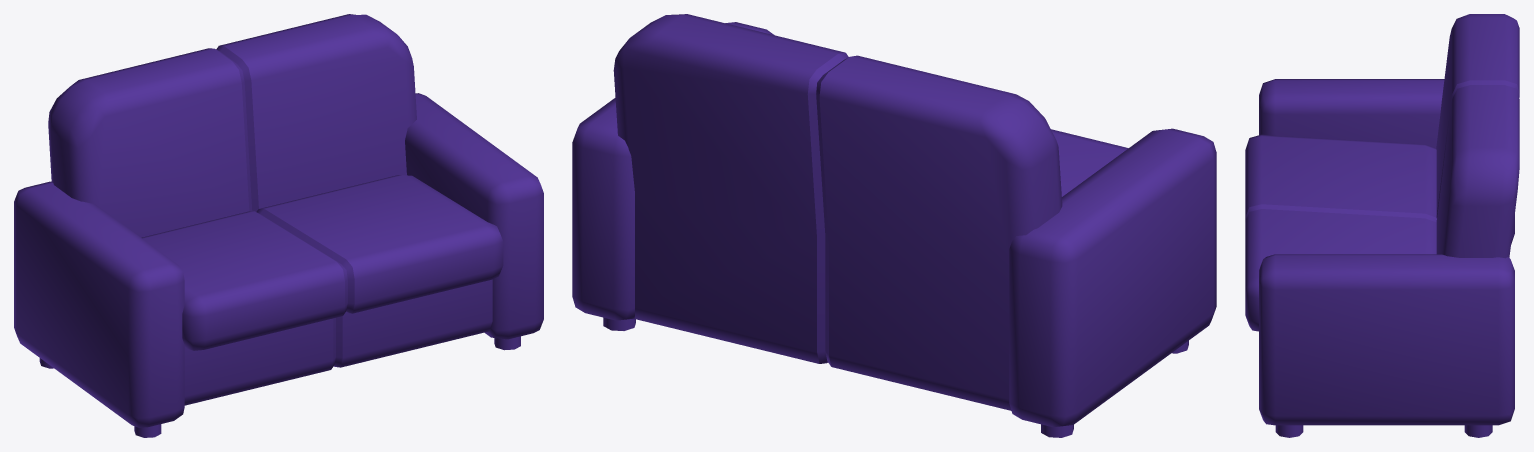
Rendered from sofa2_b.fbx.
3 renders of one model, left to right at view 1: azimuth 30°, elevation 25°; view 2: azimuth 150°, elevation 25°; view 3: azimuth 270°, elevation 25°, orthographic. The views are drawn at different scales.
Parts seen in each view (by area): view 1: sofa2_b; view 2: sofa2_b; view 3: sofa2_b.
Boxes of the visible parts, bbox=[...] form: sofa2_b: bbox=[14, 14, 543, 437]; sofa2_b: bbox=[572, 14, 1216, 437]; sofa2_b: bbox=[1245, 14, 1519, 437].
Bounding box in the file's own units: 131 × 79.27 × 75.39.
